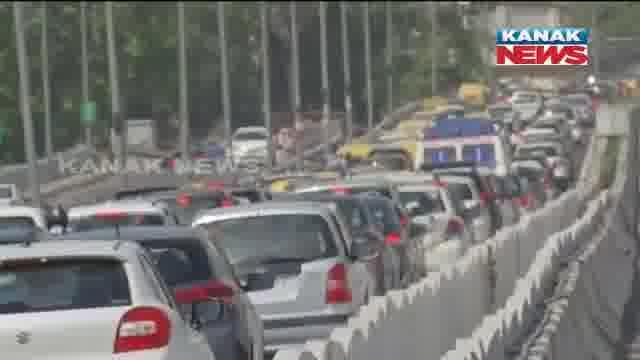AMBULANCE: (417, 116, 495, 167)
